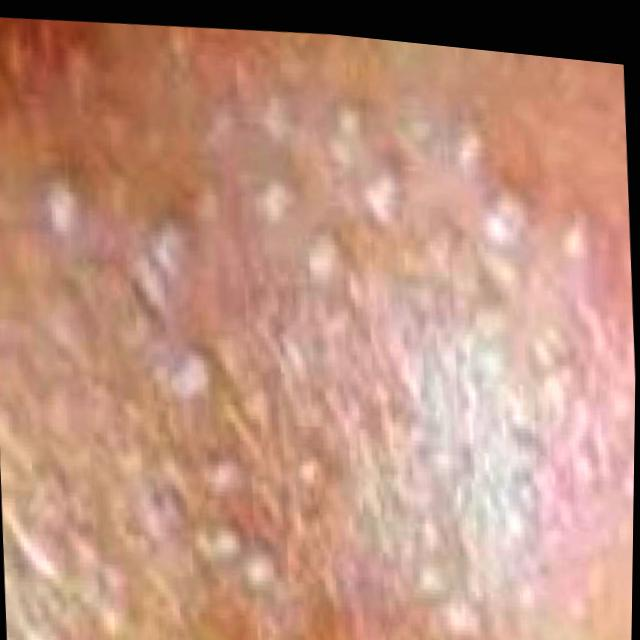whitehead: (0, 76, 636, 640)
